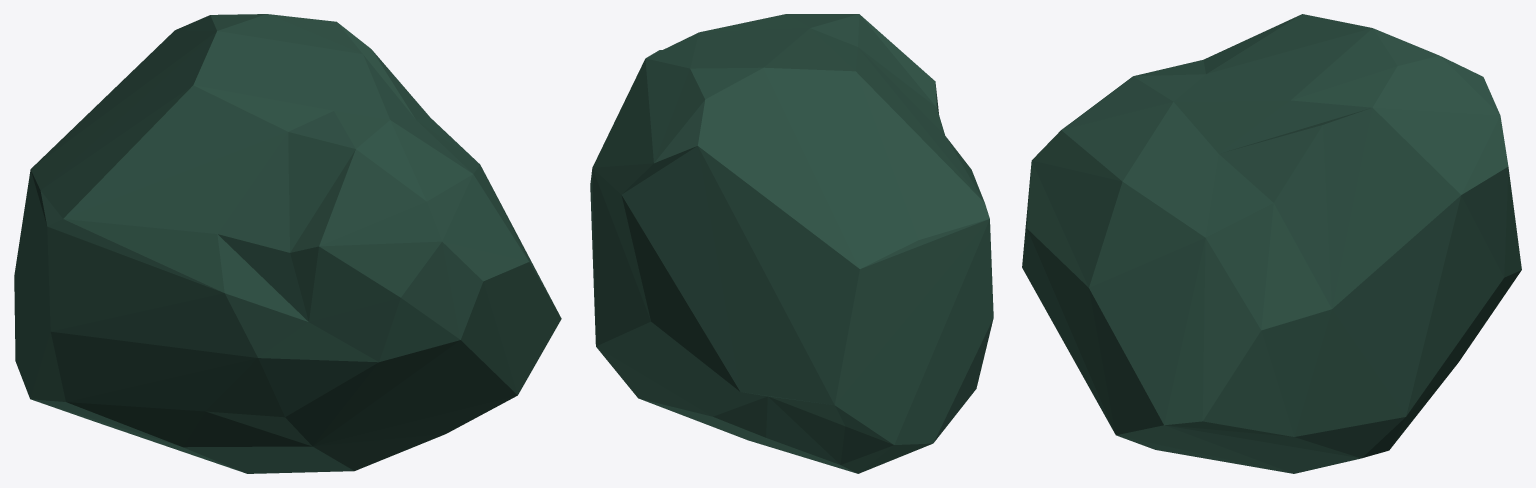
File: SM_large_rock_49.fbx
The picture shows the model from 3 angles, left to right: view 1: azimuth 30°, elevation 25°; view 2: azimuth 150°, elevation 25°; view 3: azimuth 270°, elevation 25°; orthographic projection. The views are drawn at different scales.
Parts seen in each view (by area): view 1: large_rock_49; view 2: large_rock_49; view 3: large_rock_49.
Boxes of the visible parts, x1,y1,x2,y2 form: large_rock_49: (14, 14, 561, 473); large_rock_49: (590, 14, 993, 473); large_rock_49: (1022, 14, 1521, 473).
Bounding box in the file's own units: 97.89 × 85.62 × 93.11.
